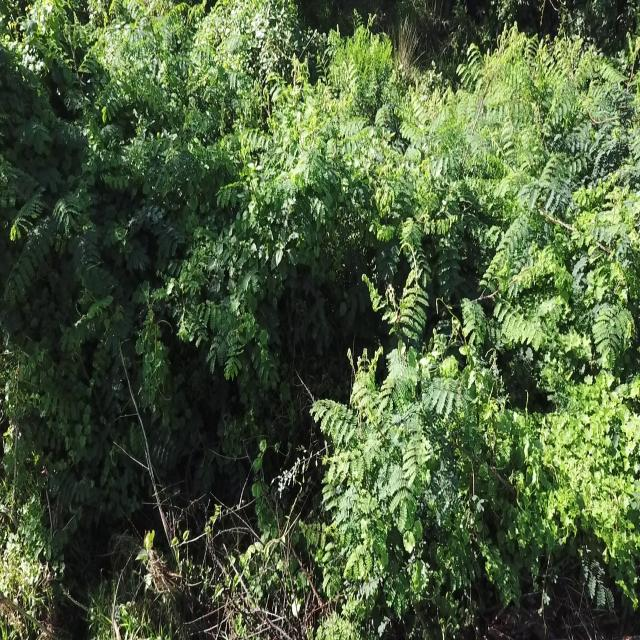Mysore-Thorn-Weed: (318, 244, 502, 580), (0, 0, 177, 300), (263, 63, 374, 222), (496, 175, 634, 300), (535, 35, 637, 178), (456, 24, 515, 175), (189, 300, 278, 394), (402, 84, 450, 243), (139, 426, 219, 492), (44, 461, 79, 534)
